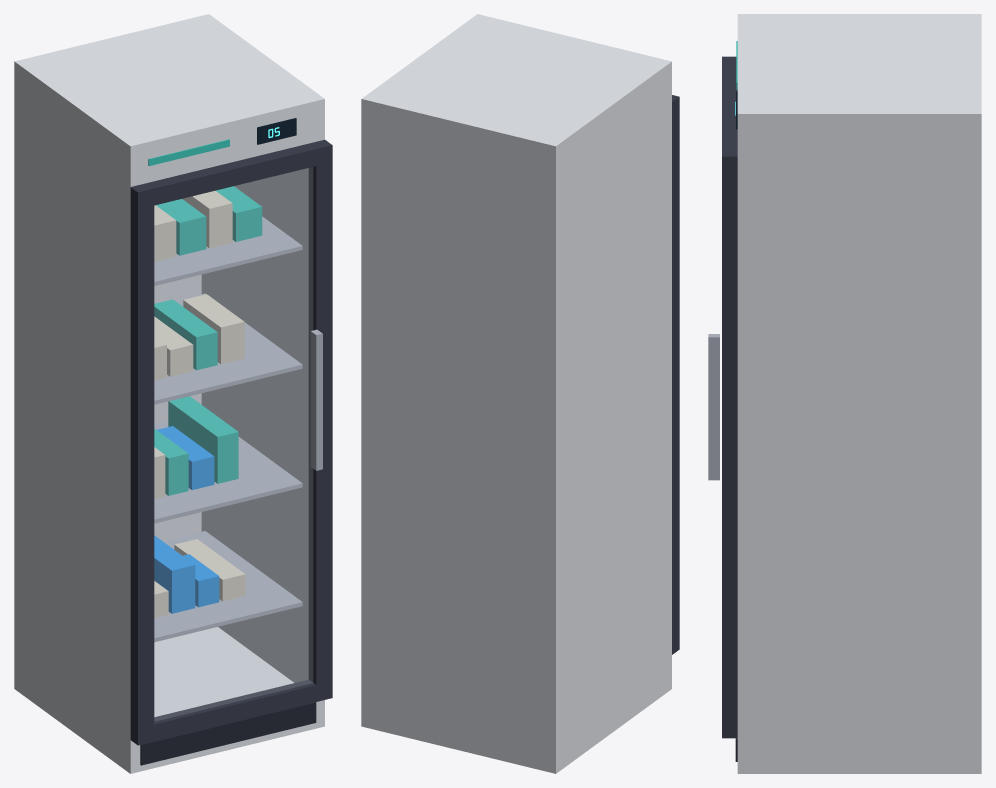
The model's file is hos-026.glb.
3 renders of one model, left to right at view 1: azimuth 30°, elevation 25°; view 2: azimuth 150°, elevation 25°; view 3: azimuth 270°, elevation 25°, orthographic. The views are drawn at different scales.
Parts seen in each view (by area): view 1: bed_frame, glass_clear, dark_steel, steel, accent_teal, paper, plastic_blue, plastic_dark, monitor_screen; view 2: bed_frame, dark_steel; view 3: bed_frame, dark_steel, steel.
Boxes of the visible parts, <box> form: bed_frame: <box>14,14,324,773</box>; glass_clear: <box>155,167,312,720</box>; dark_steel: <box>130,139,332,745</box>; steel: <box>154,216,322,642</box>; accent_teal: <box>148,139,262,495</box>; paper: <box>154,190,245,617</box>; plastic_blue: <box>154,426,219,613</box>; plastic_dark: <box>140,702,316,765</box>; monitor_screen: <box>257,118,296,144</box>; bed_frame: <box>361,14,671,773</box>; dark_steel: <box>672,95,679,654</box>; bed_frame: <box>737,14,981,773</box>; dark_steel: <box>722,56,737,738</box>; steel: <box>708,334,719,480</box>.
Size of the model in its own units: 0.6 by 1.85 by 0.695.
